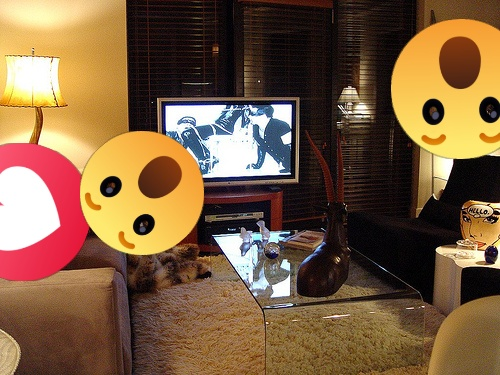love: (0, 143, 91, 281)
wow: (80, 131, 204, 255), (391, 19, 500, 159)
